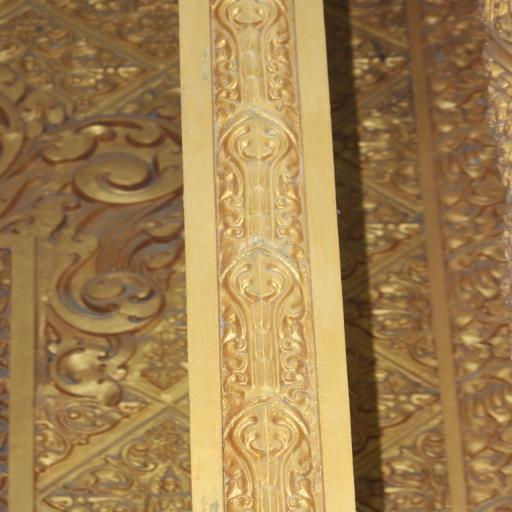hoa: (5, 3, 143, 111), (67, 414, 193, 512), (350, 246, 440, 374), (340, 92, 441, 206), (350, 346, 436, 459), (356, 422, 453, 512), (344, 181, 433, 279), (332, 20, 416, 114)
lua: (0, 113, 186, 396)
